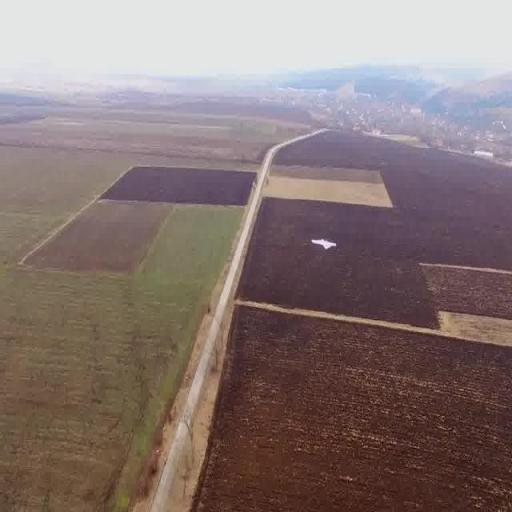uav: (304, 228, 344, 262)
